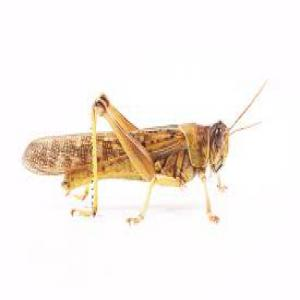locust: (23, 89, 262, 206)
